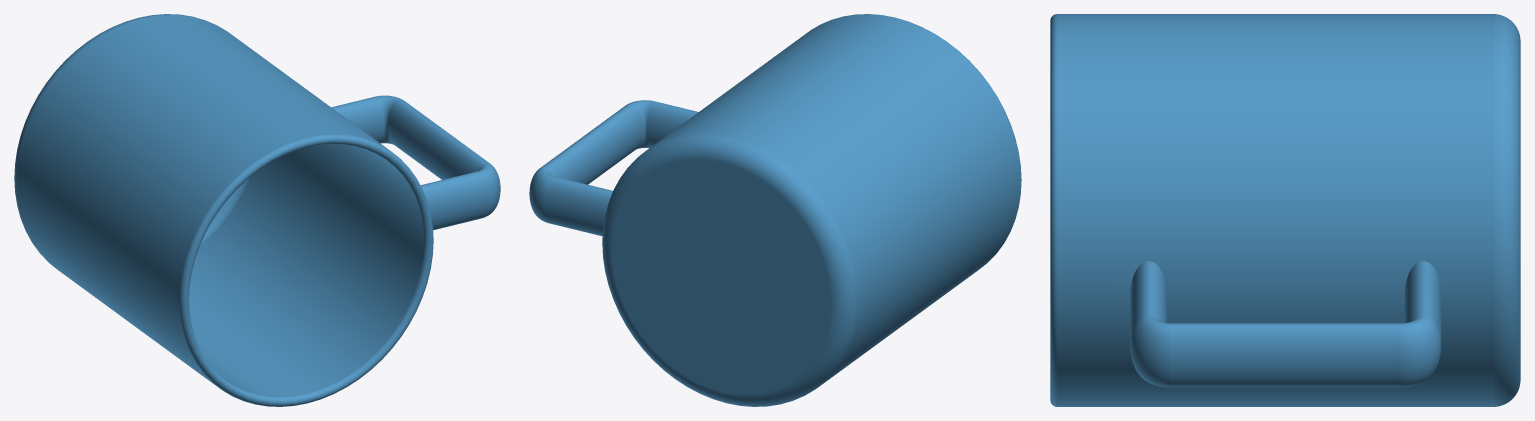
The model's file is Part Studio 1 - Coffee Cup.gltf.
3 views of the same model, side by side, from view 1: azimuth 30°, elevation 25°; view 2: azimuth 150°, elevation 25°; view 3: azimuth 270°, elevation 25° (orthographic). The views are drawn at different scales.
Visible parts, largest first — view 1: mesh11_meshnode_11, mesh9_meshnode_9, mesh10_meshnode_10, mesh4_meshnode_4, mesh0_meshnode_0, mesh12_meshnode_12, mesh1_meshnode_1, mesh2_meshnode_2, mesh8_meshnode_8, mesh5_meshnode_5; view 2: mesh11_meshnode_11, mesh13_meshnode_13, mesh12_meshnode_12, mesh4_meshnode_4, mesh1_meshnode_1, mesh0_meshnode_0, mesh5_meshnode_5, mesh2_meshnode_2, mesh10_meshnode_10; view 3: mesh11_meshnode_11, mesh4_meshnode_4, mesh12_meshnode_12, mesh10_meshnode_10, mesh5_meshnode_5, mesh2_meshnode_2, mesh1_meshnode_1, mesh0_meshnode_0.
Part boxes in pixels (x1,y1,x2,y2): mesh11_meshnode_11: (17, 16, 388, 387); mesh9_meshnode_9: (189, 144, 423, 396); mesh10_meshnode_10: (179, 134, 433, 406); mesh4_meshnode_4: (388, 100, 487, 179); mesh0_meshnode_0: (421, 171, 485, 230); mesh12_meshnode_12: (14, 14, 218, 263); mesh1_meshnode_1: (331, 96, 383, 142); mesh2_meshnode_2: (476, 161, 500, 218); mesh8_meshnode_8: (199, 176, 251, 247); mesh5_meshnode_5: (375, 95, 403, 144); mesh11_meshnode_11: (650, 14, 1020, 386); mesh13_meshnode_13: (612, 159, 830, 393); mesh12_meshnode_12: (602, 132, 858, 406); mesh4_meshnode_4: (542, 105, 641, 184); mesh1_meshnode_1: (544, 176, 612, 236); mesh0_meshnode_0: (647, 101, 698, 147); mesh5_meshnode_5: (529, 166, 553, 223); mesh2_meshnode_2: (625, 100, 654, 149); mesh10_meshnode_10: (843, 14, 1021, 242); mesh11_meshnode_11: (1057, 14, 1491, 406); mesh4_meshnode_4: (1173, 323, 1398, 387); mesh12_meshnode_12: (1491, 14, 1520, 406); mesh10_meshnode_10: (1050, 14, 1057, 406); mesh5_meshnode_5: (1397, 314, 1441, 387); mesh2_meshnode_2: (1130, 314, 1173, 387); mesh1_meshnode_1: (1404, 261, 1441, 341); mesh0_meshnode_0: (1130, 261, 1166, 344).
Size of the model in its own units: 0.122 by 0.086 by 0.1028.
